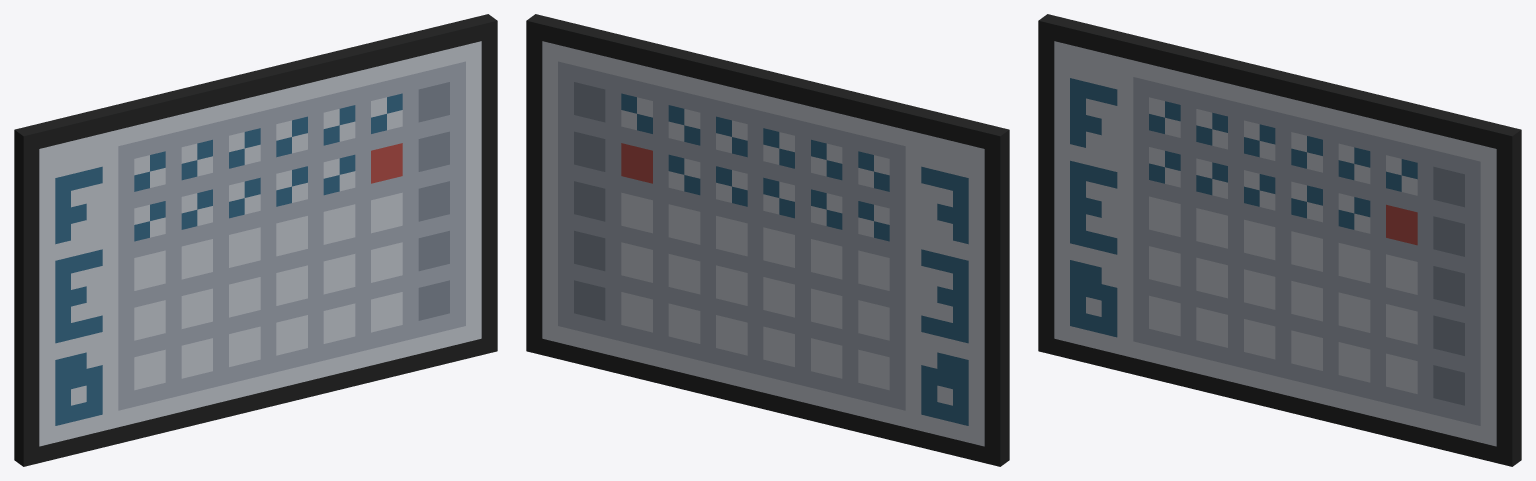
File: whiteboard-3.obj
3 renders of one model, left to right at view 1: azimuth 30°, elevation 25°; view 2: azimuth 150°, elevation 25°; view 3: azimuth 330°, elevation 25°, orthographic.
Size of the model in its own units: 3 by 2 by 0.1.
1 material, 1 textured.
